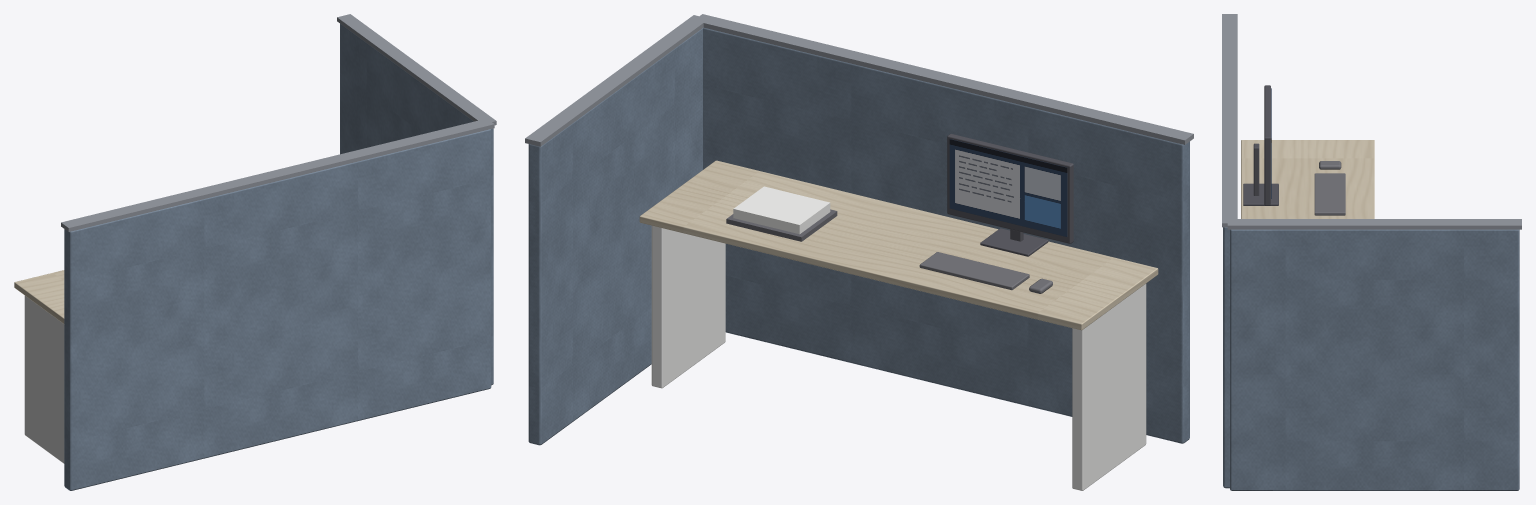
File: oficina_cubiculos.cubiculo.fbx
The picture shows the model from 3 angles, left to right: view 1: azimuth 30°, elevation 25°; view 2: azimuth 150°, elevation 25°; view 3: azimuth 270°, elevation 25°; orthographic projection. The views are drawn at different scales.
Visible parts, largest first — view 1: Panel, Panel.001, Pata.001, Remate, Remate.001, Cubierta; view 2: Panel, Panel.001, Cubierta, Pata.001, Pata, Pantalla, Remate, Remate.001, Papeles, Monitor, Teclado, Base del monitor (+1 smaller); view 3: Panel.001, Cubierta, Remate, Remate.001, Panel, Teclado, Monitor, Base del monitor, Brazo del monitor.
Boxes of the visible parts, x1,y1,x2,y2 form: Panel: [64, 129, 491, 490]; Panel.001: [340, 23, 493, 385]; Pata.001: [24, 295, 64, 463]; Remate: [61, 118, 494, 231]; Remate.001: [337, 14, 496, 125]; Cubierta: [14, 270, 64, 323]; Panel: [703, 27, 1189, 443]; Panel.001: [528, 28, 702, 445]; Cubierta: [639, 160, 1158, 330]; Pata.001: [1072, 284, 1146, 490]; Pata: [651, 225, 725, 388]; Pantalla: [949, 139, 1067, 236]; Remate: [694, 14, 1193, 144]; Remate.001: [525, 15, 707, 146]; Papeles: [733, 186, 830, 234]; Monitor: [947, 134, 1073, 243]; Teclado: [919, 252, 1029, 290]; Base del monitor: [980, 228, 1048, 256]; Panel.001: [1230, 229, 1519, 490]; Cubierta: [1241, 140, 1374, 218]; Remate: [1222, 14, 1237, 227]; Remate.001: [1227, 219, 1521, 229]; Panel: [1223, 227, 1229, 488]; Teclado: [1314, 173, 1345, 215]; Monitor: [1264, 85, 1270, 205]; Base del monitor: [1243, 183, 1278, 205]; Brazo del monitor: [1253, 143, 1259, 195].
Bounding box in the file's own units: 2.25 × 1.32 × 1.35.
Materials: 10 (3 with a texture image).
